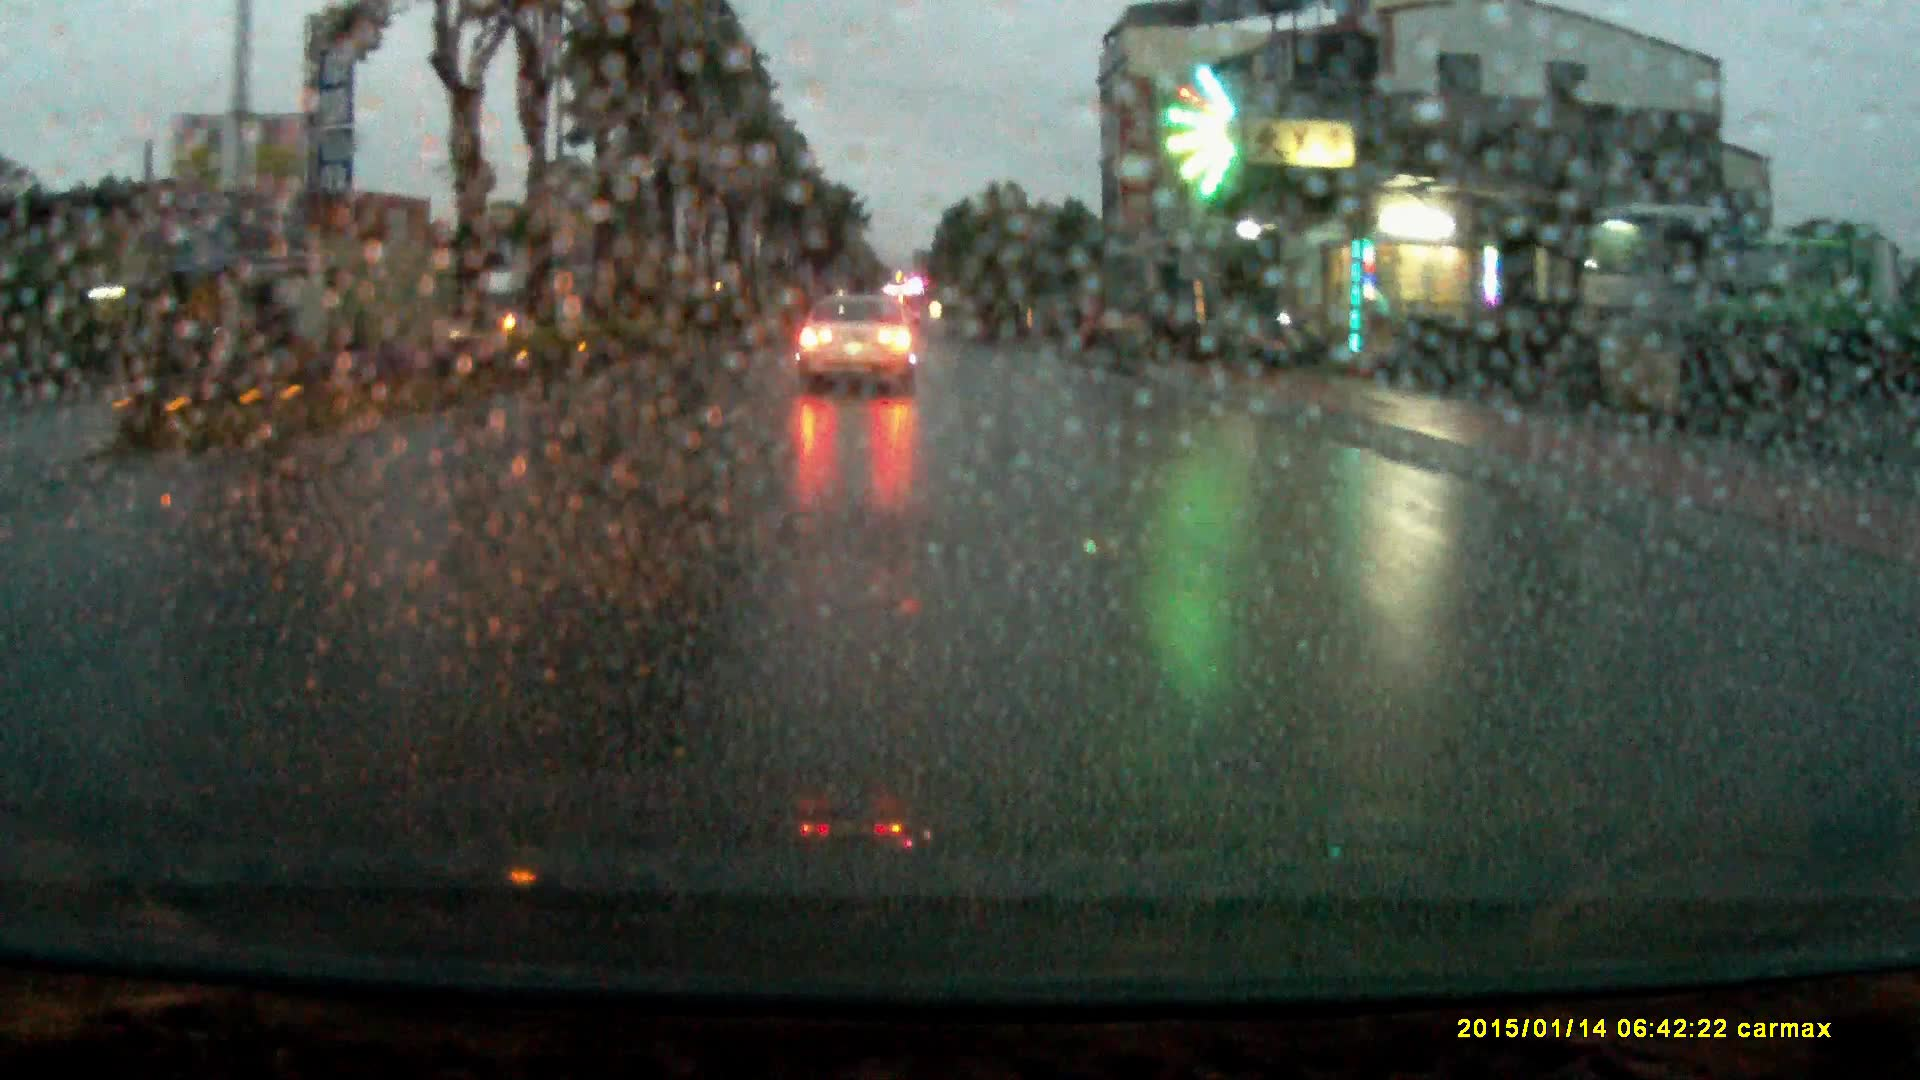vehicle: (1718, 237, 1920, 393), (1568, 207, 1737, 382), (796, 295, 916, 397), (459, 274, 566, 343)
